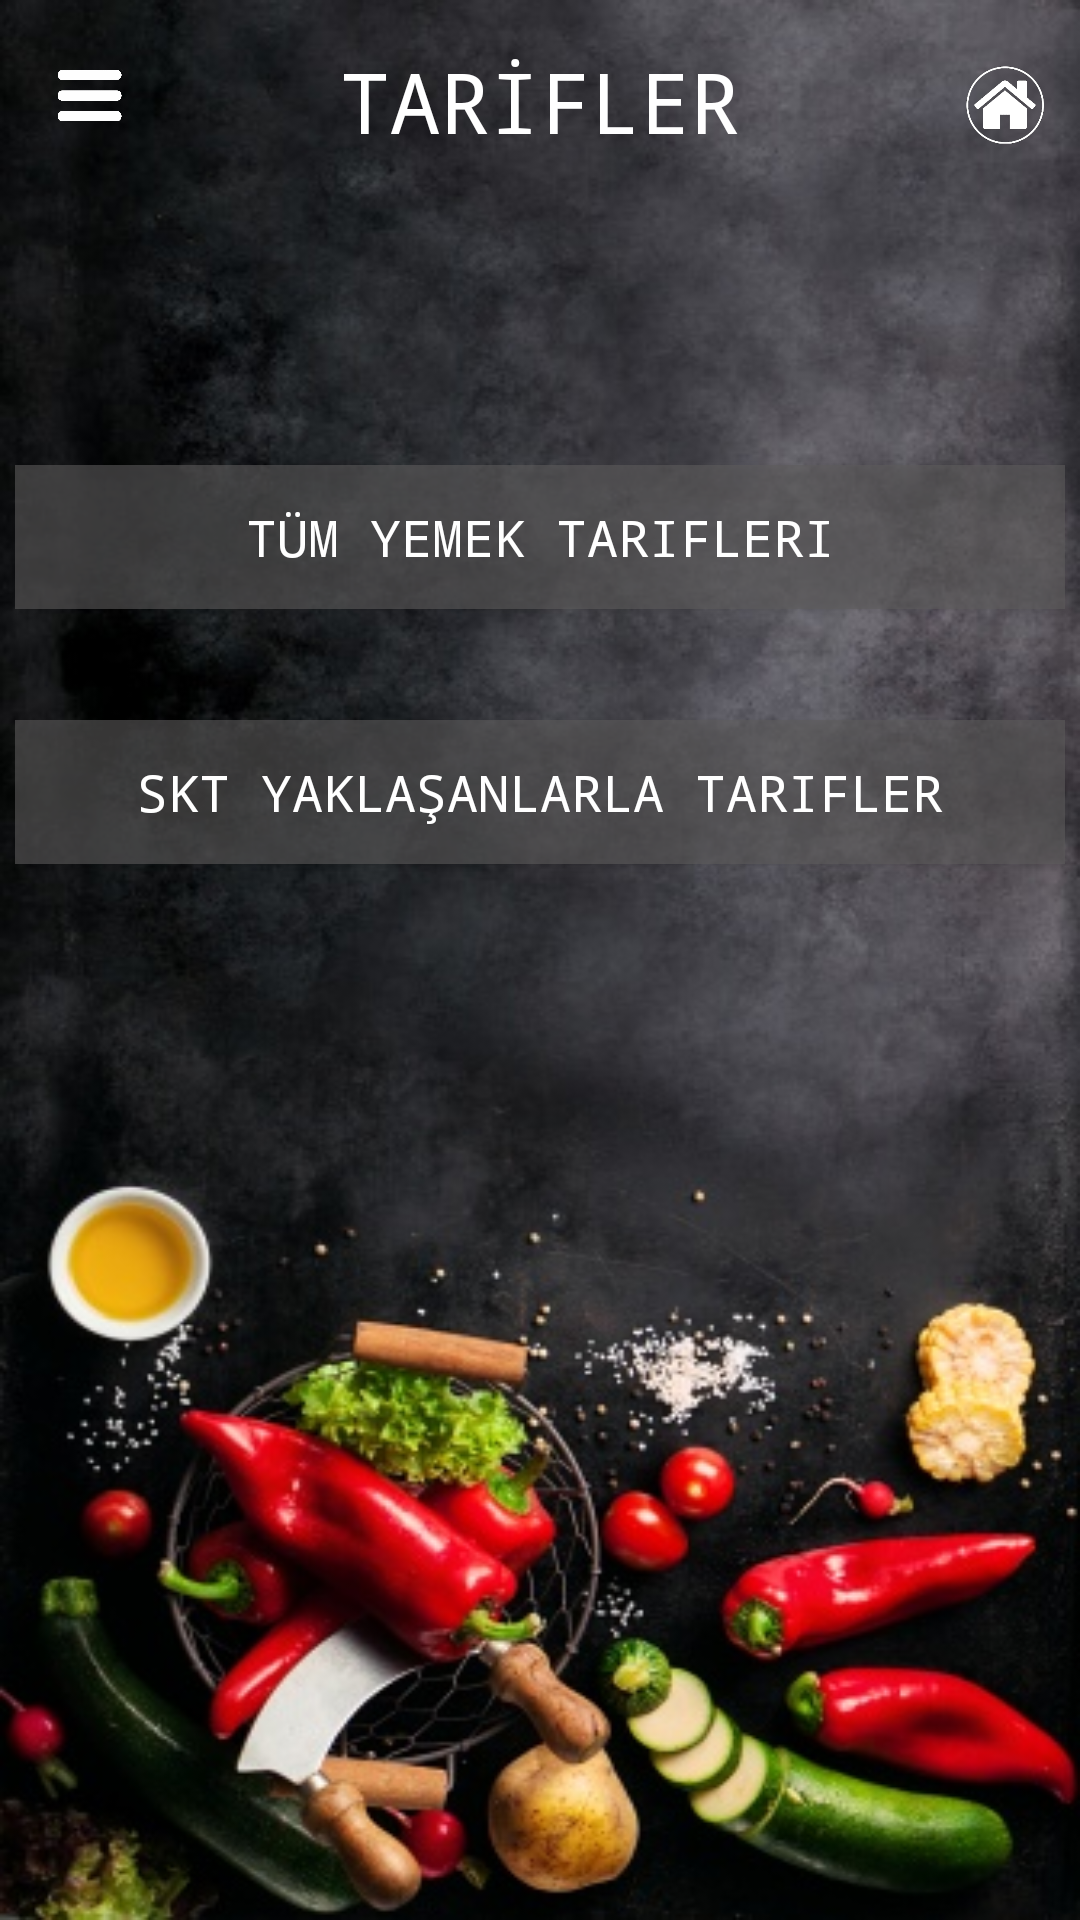

Locate icon controls on the screen. Image size 1080*1920, boxes as [x1, y1, x2, y2].
home: [966, 66, 1044, 144]
menu: [58, 70, 122, 121]
